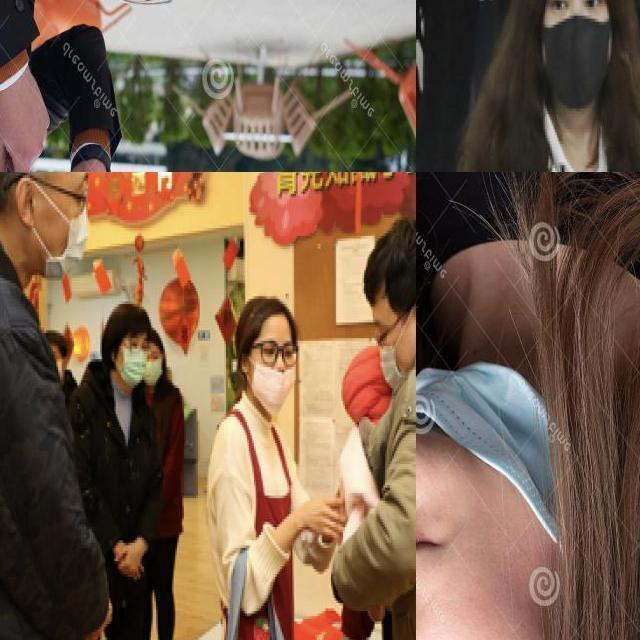hairnet: (417, 358, 568, 630), (247, 358, 295, 411)
